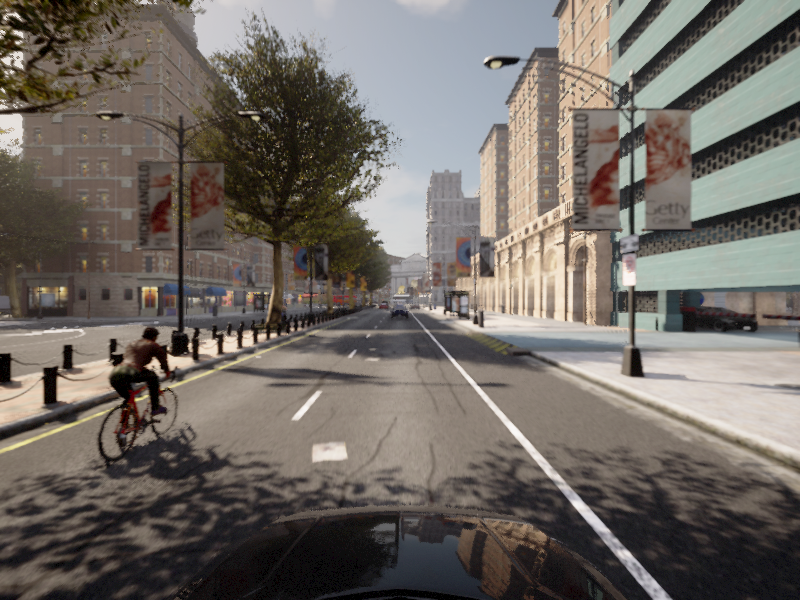vehicle: (73, 324, 196, 472), (276, 303, 290, 320), (391, 305, 408, 318)
